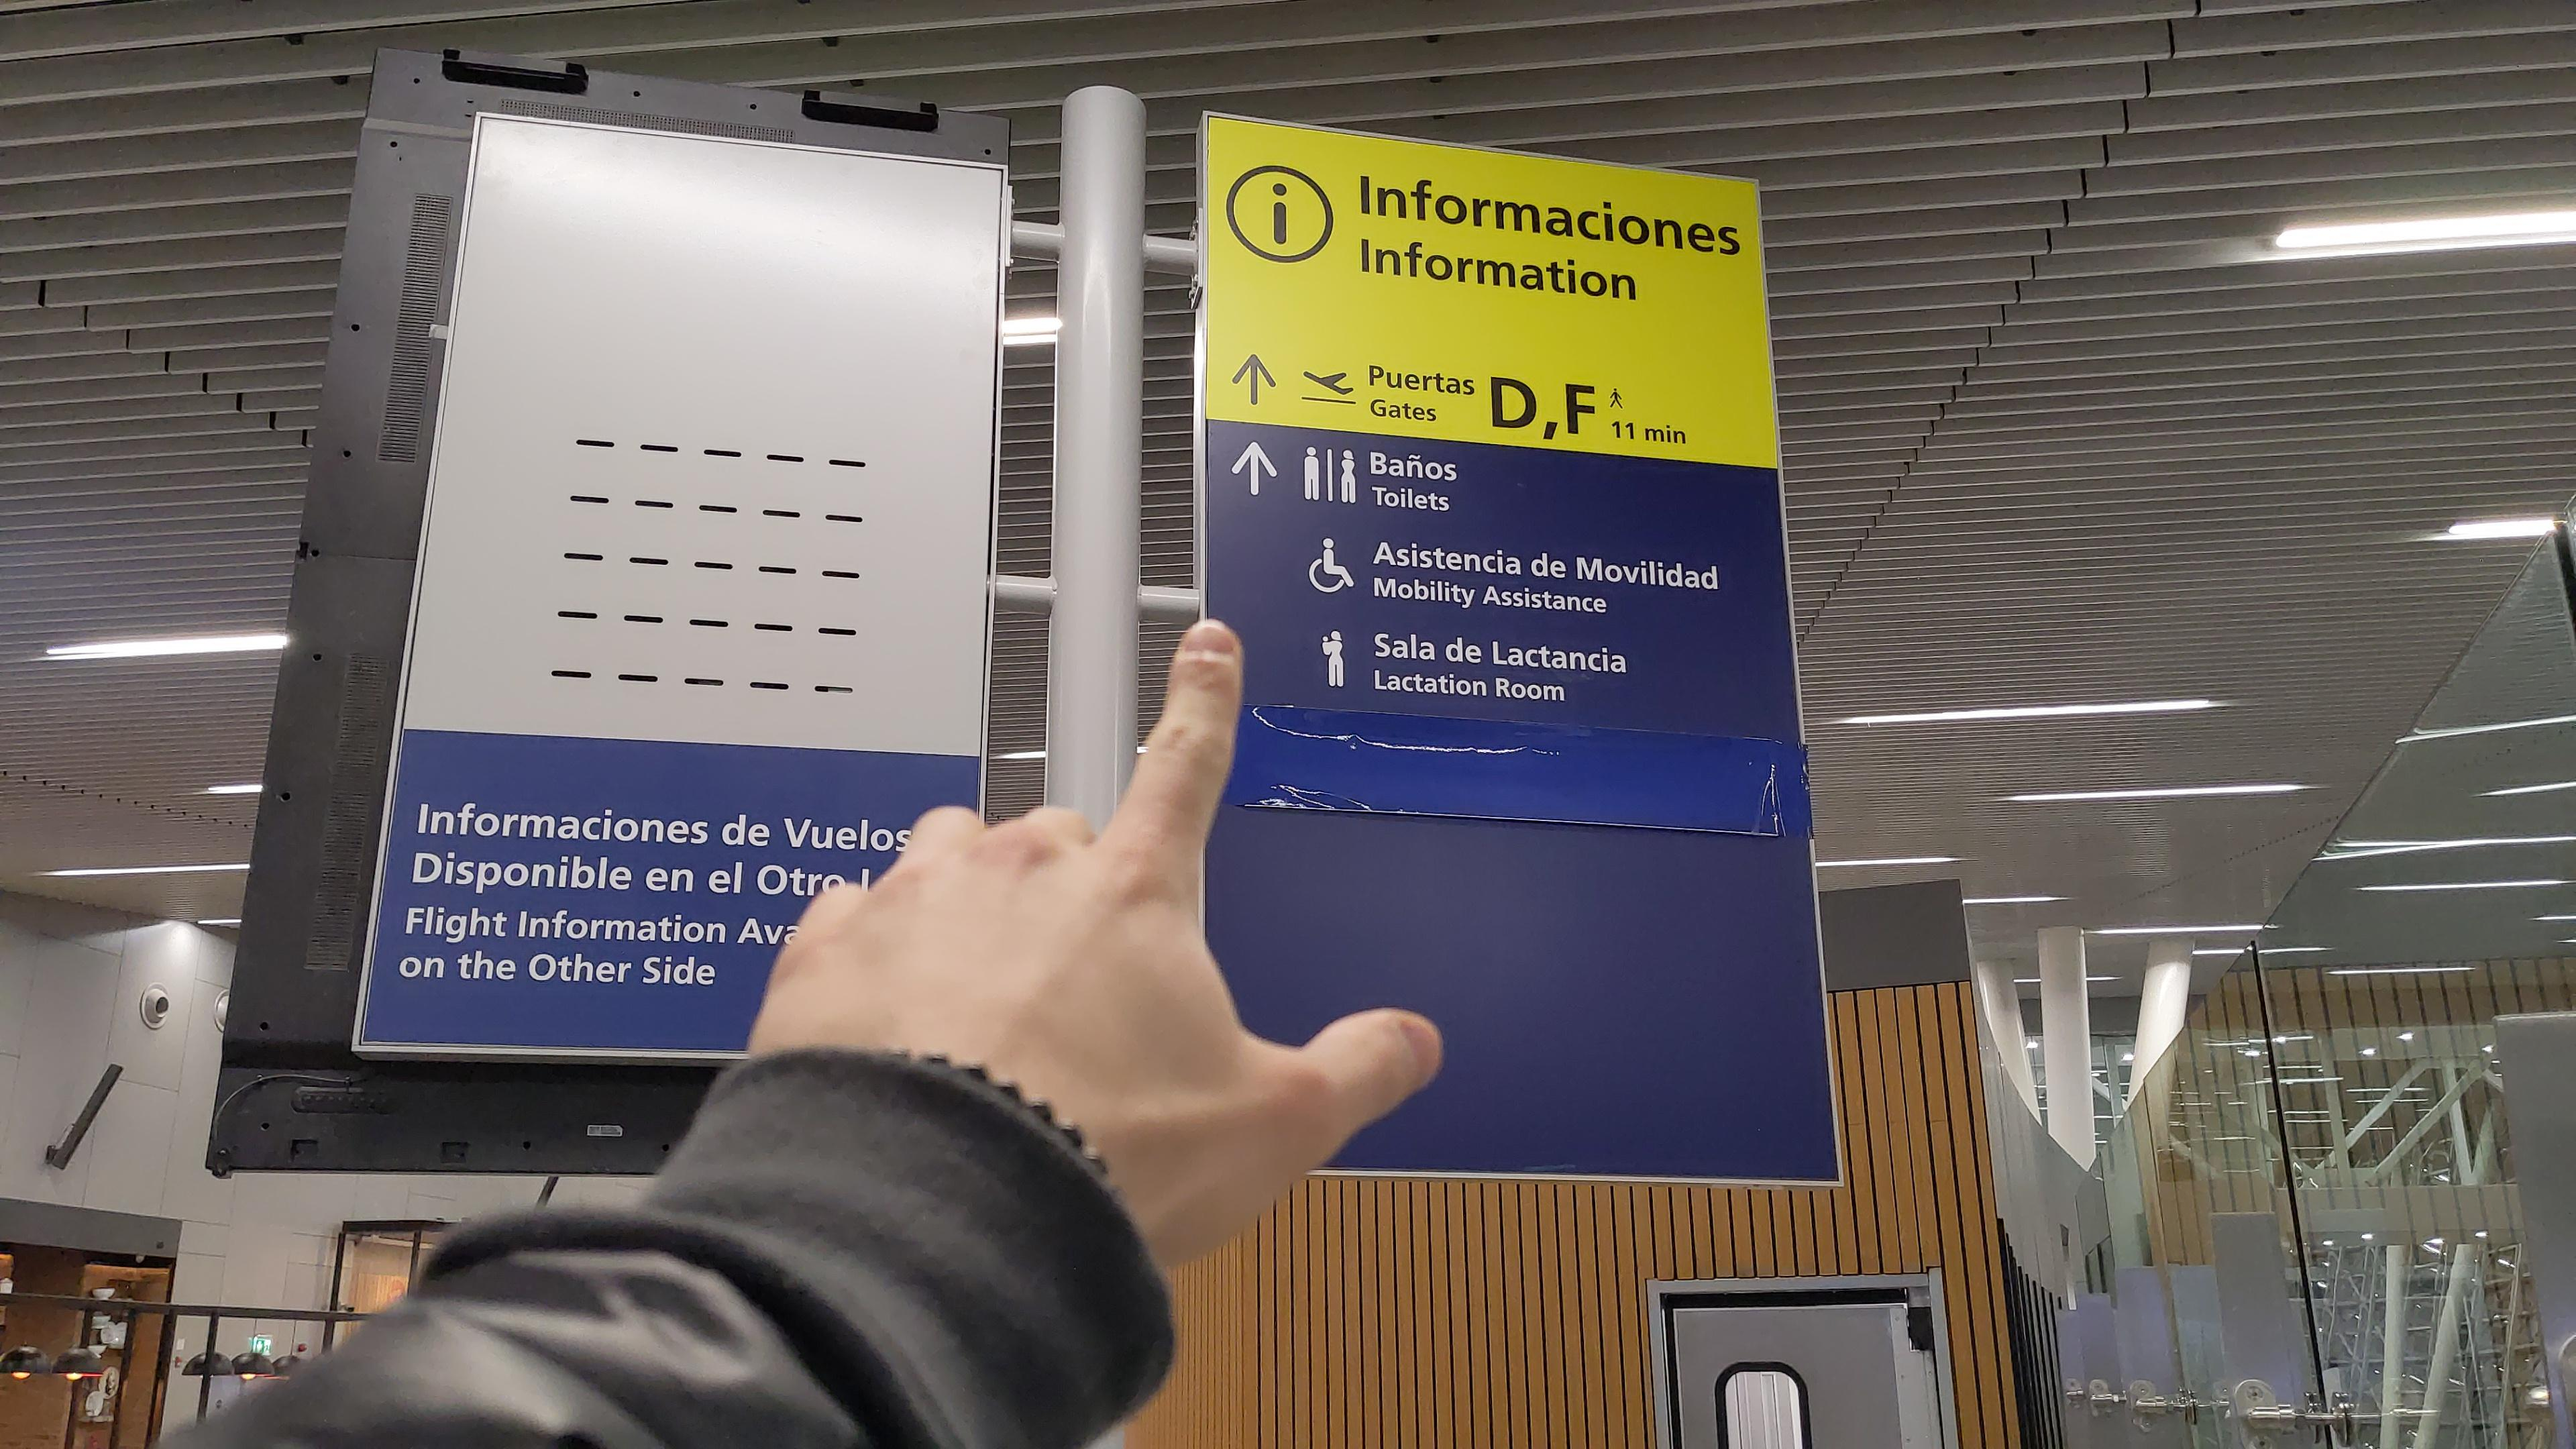airplane symbol: (1300, 364, 1359, 396)
bathrooms: (1300, 441, 1362, 510)
handicapped symbol: (1307, 536, 1355, 594)
thin up arrow: (1226, 437, 1281, 501), (1228, 349, 1283, 410)
